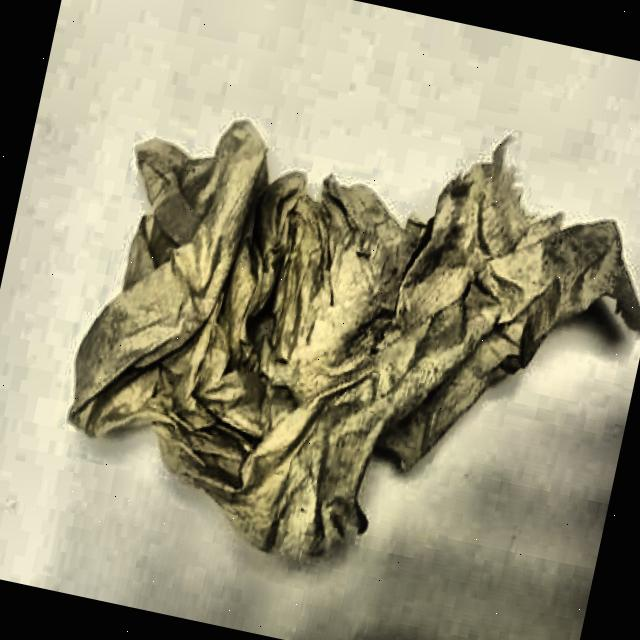trash: (52, 88, 613, 600)
